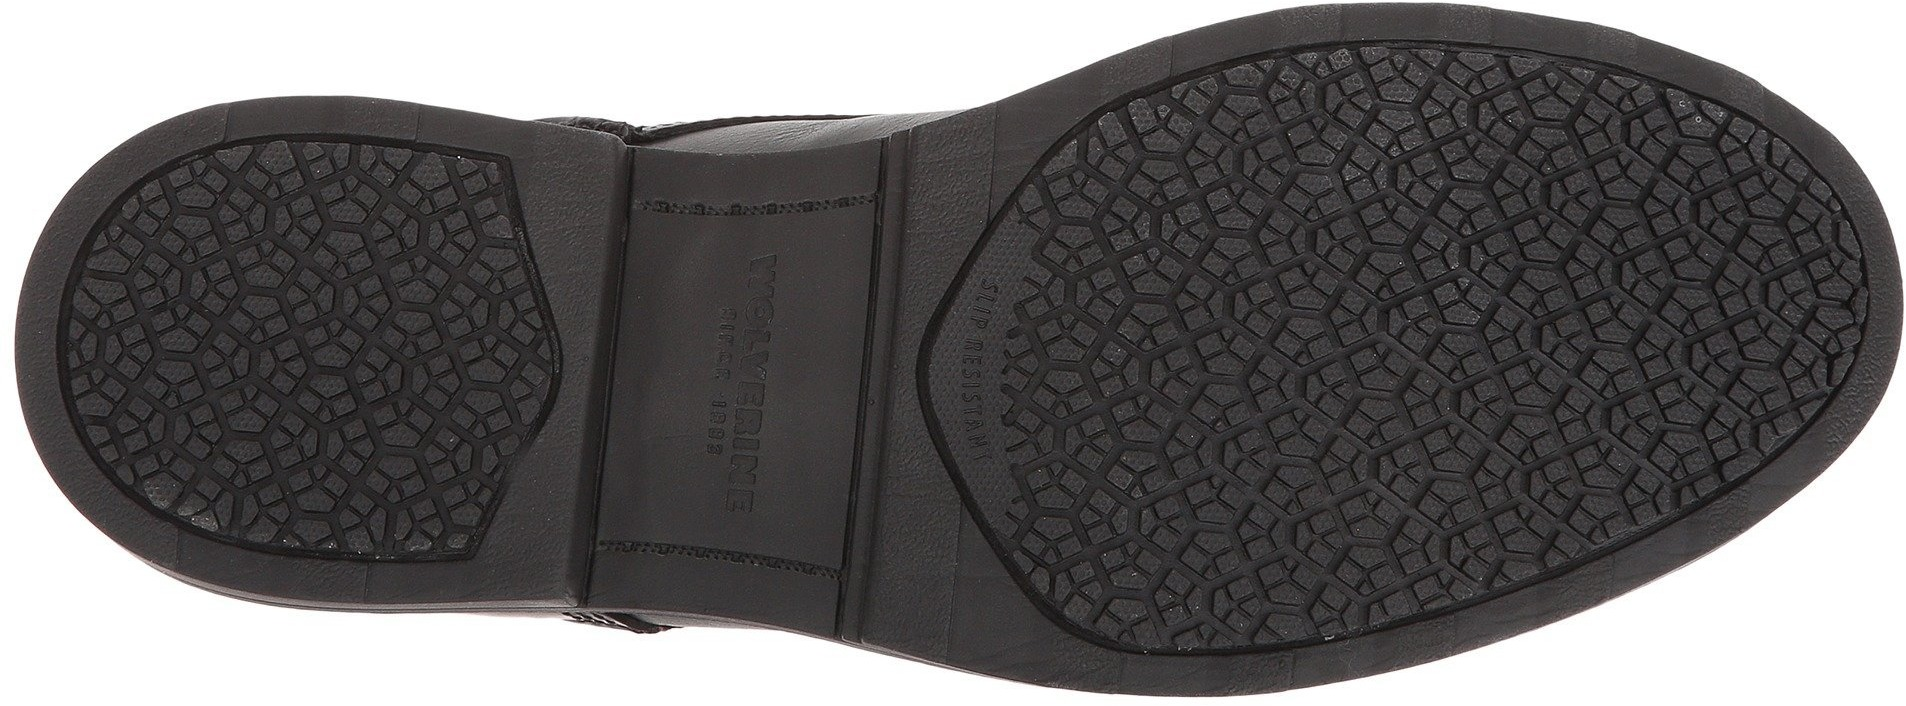text: (682, 362, 802, 482), (707, 248, 814, 350), (937, 300, 1016, 391)
